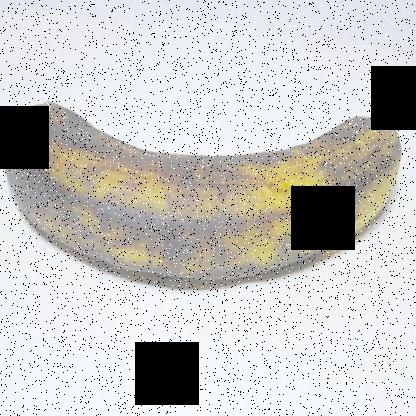overripe: (1, 72, 414, 352)
